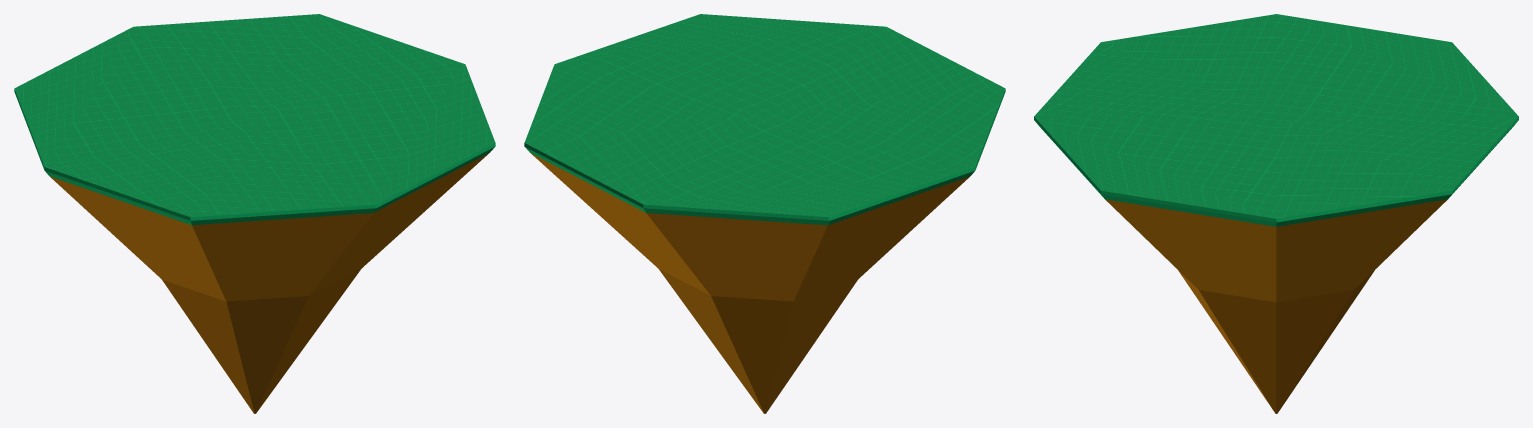
Rendered from iland.fbx.
The picture shows the model from 3 angles, left to right: view 1: azimuth 30°, elevation 25°; view 2: azimuth 150°, elevation 25°; view 3: azimuth 270°, elevation 25°; orthographic projection.
Parts seen in each view (by area): view 1: Plane; view 2: Plane; view 3: Plane.
Boxes of the visible parts, left/top/right/bottom form: Plane: left=14, top=14, right=495, bottom=413; Plane: left=524, top=14, right=1005, bottom=413; Plane: left=1034, top=14, right=1518, bottom=413.
Size of the model in its own units: 1381 by 933 by 1381.
Materials: 2 (1 with a texture image).
